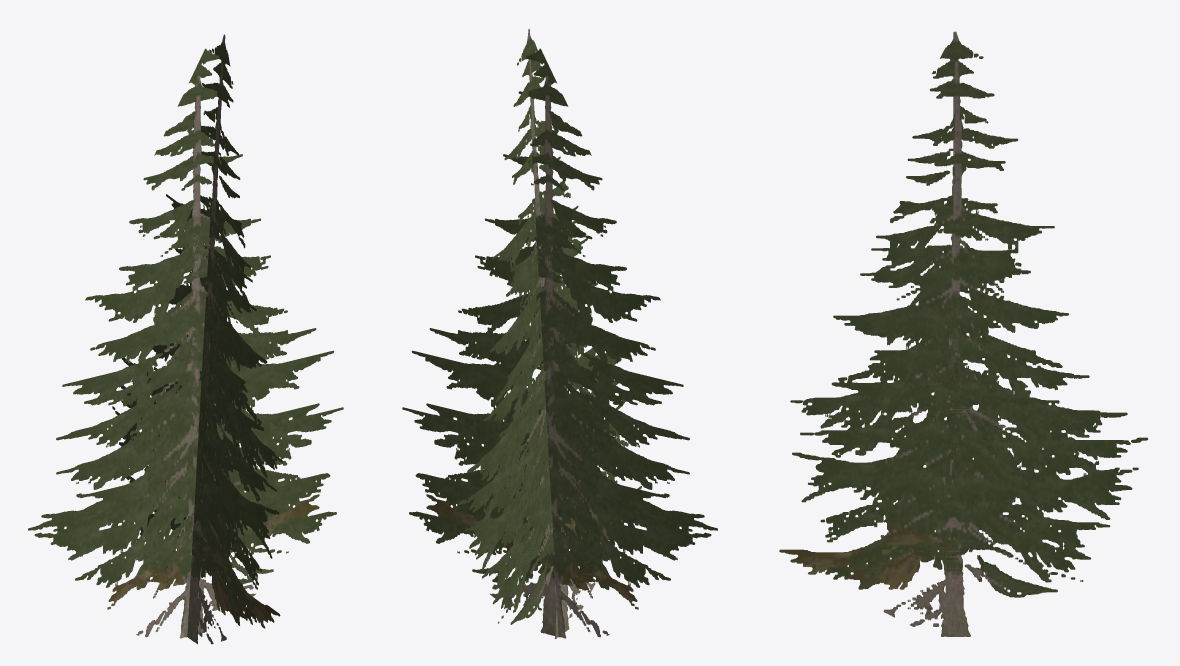
Rendered from Spruce5_LOD5.fbx.
3 views of the same model, side by side, from view 1: azimuth 30°, elevation 25°; view 2: azimuth 150°, elevation 25°; view 3: azimuth 270°, elevation 25° (orthographic). The views are drawn at different scales.
Parts seen in each view (by area): view 1: Spruce5 Imposter_0; view 2: Spruce5 Imposter_0; view 3: Spruce5 Imposter_0.
Boxes of the visible parts, x1,y1,x2,y2 form: Spruce5 Imposter_0: (28,34,343,644); Spruce5 Imposter_0: (402,28,717,639); Spruce5 Imposter_0: (779,31,1147,636).
Size of the model in its own units: 631 by 1102 by 617.
1 material, 1 textured.
